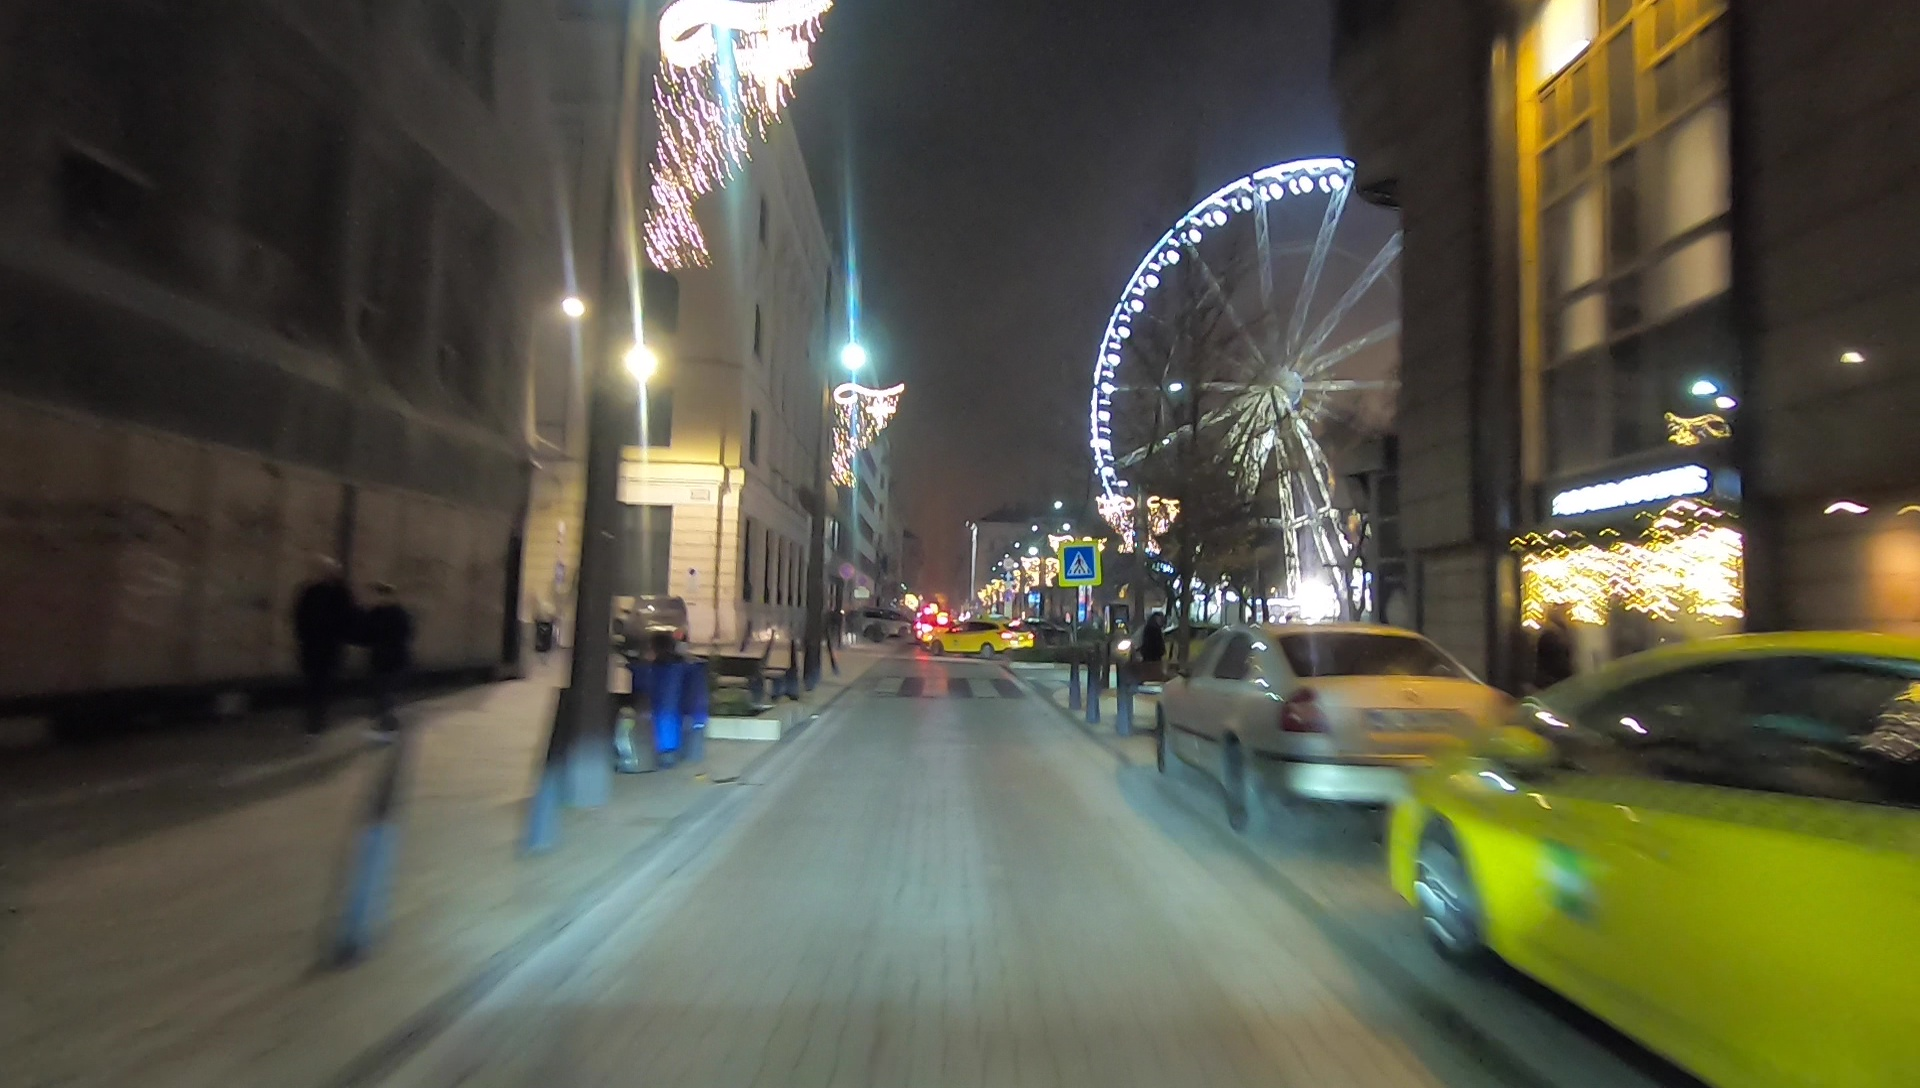person: (284, 556, 354, 732), (364, 580, 410, 739)
